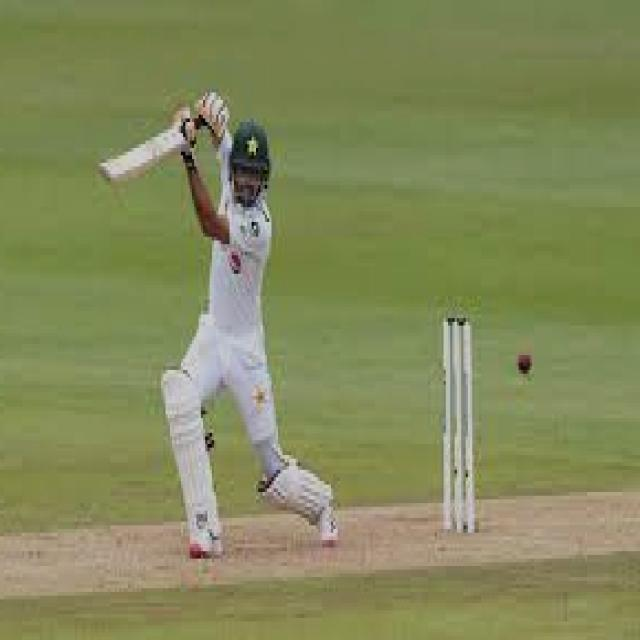toe: (100, 152, 144, 192)
